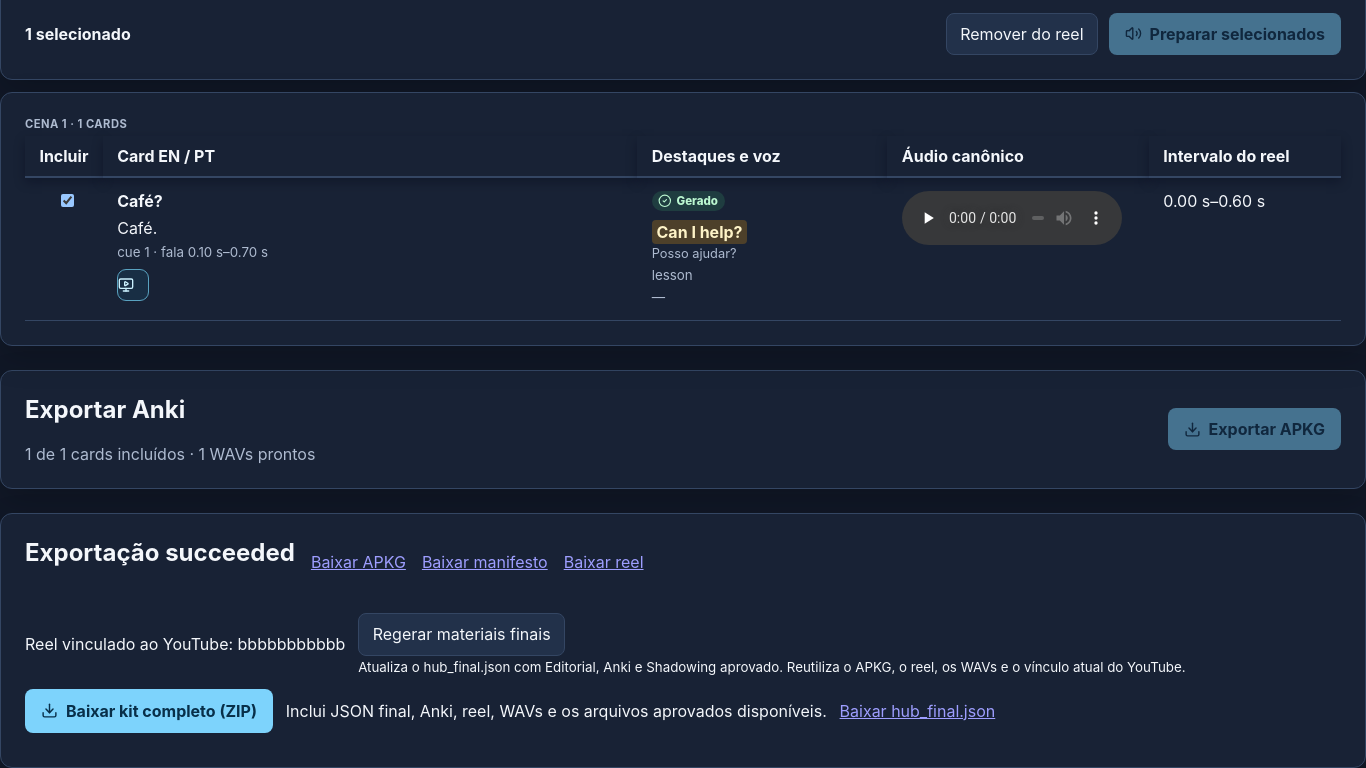
it: MaterialsPage › provides the final ZIP only when a published export has a complete kit
This screenshot has width=1366, height=768.
(page scrolled)
Click the button "Regerar materiais finais": [462, 634] box x1=358 y1=613 x2=565 y2=656
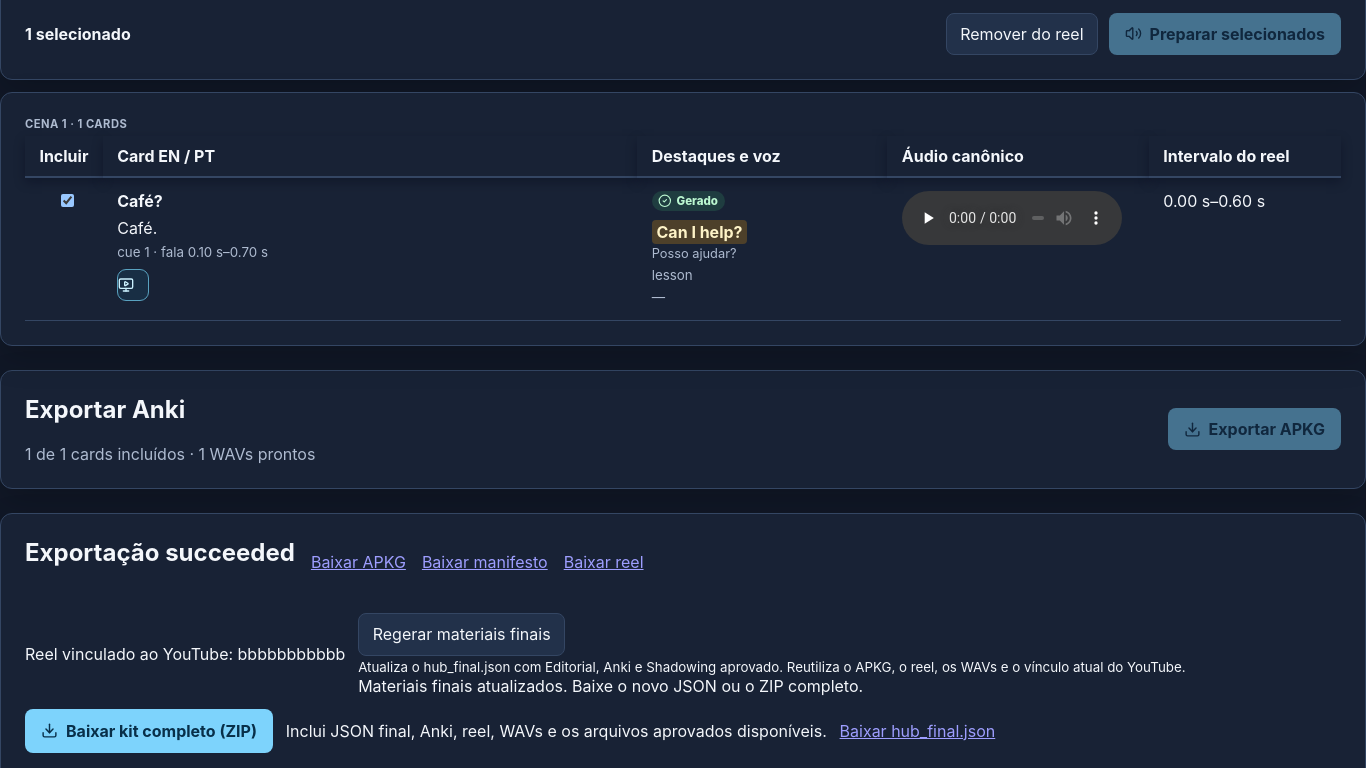
Now the text "Materiais finais atualizados. Baixe o novo JSON ou o ZIP completo." is shown, box x1=358 y1=676 x2=863 y2=696
